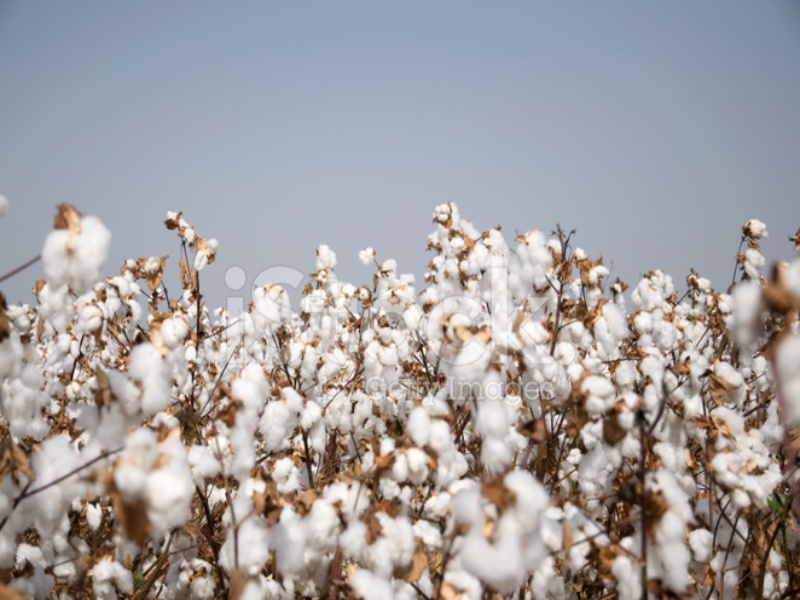cotton: (3, 206, 796, 597)
